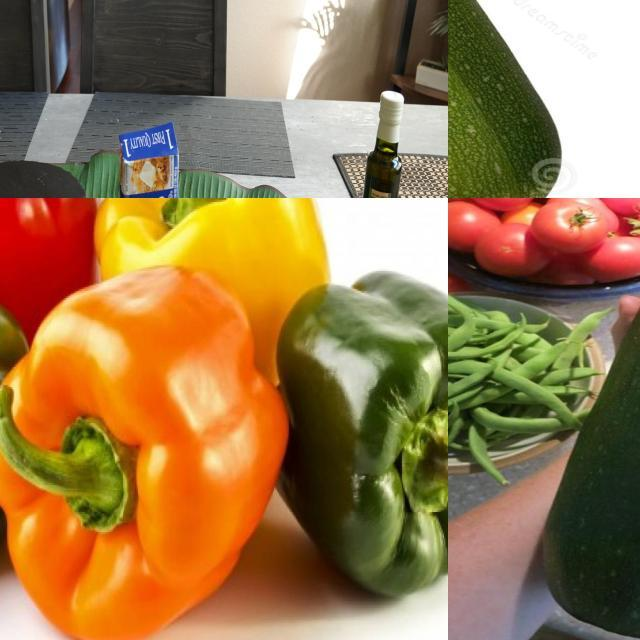bell_pepper: (1, 263, 293, 640), (303, 267, 449, 599), (104, 199, 336, 396), (1, 199, 101, 328)
tomato: (469, 207, 550, 276), (533, 199, 616, 256), (449, 199, 504, 247), (594, 199, 640, 221)
zucchini: (449, 1, 588, 199)
